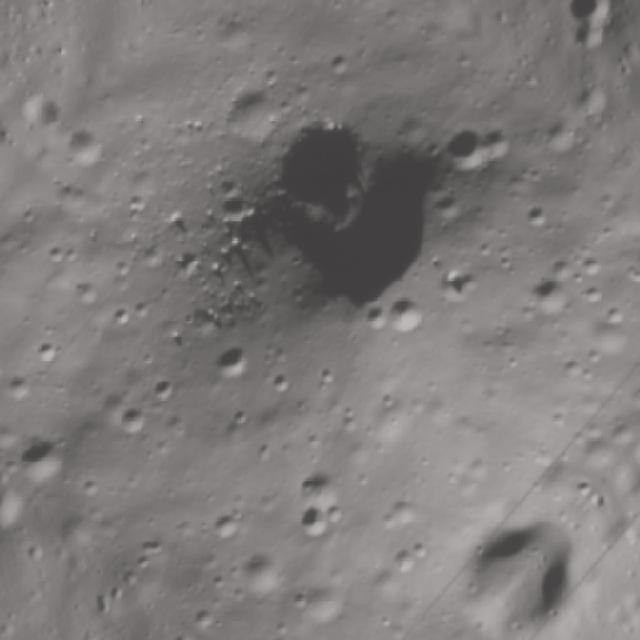crater: (246, 80, 417, 252), (432, 100, 526, 194), (5, 425, 78, 498), (229, 538, 300, 608), (522, 269, 584, 329), (378, 286, 438, 345), (57, 120, 117, 178), (535, 109, 590, 165), (108, 397, 161, 448), (210, 334, 262, 384), (206, 501, 254, 550), (0, 362, 46, 412), (378, 494, 425, 541), (291, 502, 335, 546), (390, 537, 433, 581), (520, 194, 562, 237), (132, 524, 176, 565), (108, 297, 150, 337), (74, 466, 114, 506), (68, 272, 108, 312), (148, 372, 188, 411), (553, 349, 592, 388), (29, 337, 68, 374), (221, 398, 256, 436), (188, 601, 224, 637), (288, 580, 324, 615), (264, 366, 298, 400), (601, 301, 634, 334), (320, 497, 352, 529), (513, 70, 542, 98), (129, 552, 156, 578), (571, 476, 597, 502)
